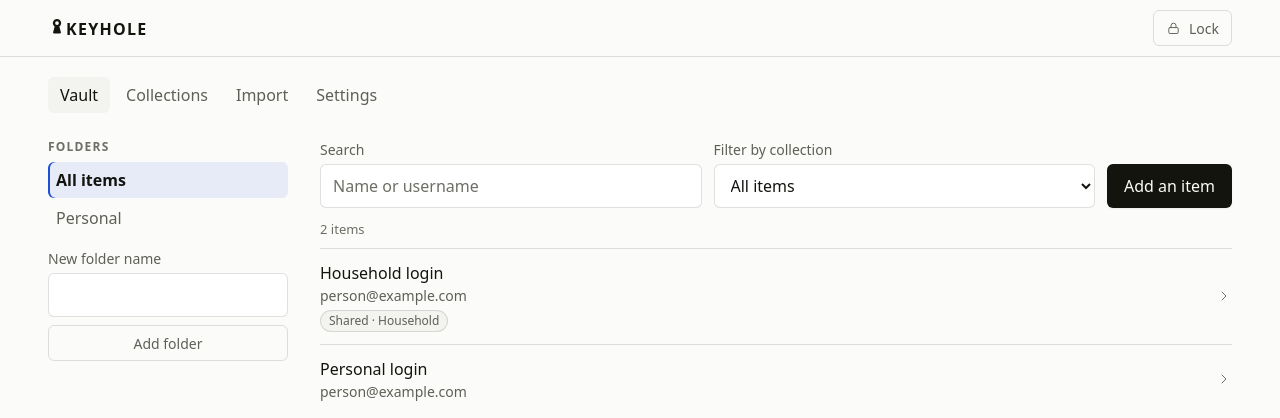
Scenario: VaultScreen collections › filters the list to one collection when that collection is selected
Check: the text "Household login" is shown, box [320, 262, 444, 284]
Check: the text "Personal login" is shown, box [320, 358, 428, 380]
Select "Household" in the dropdown labelled "Filter by collection": (904, 186) [714, 164, 1095, 208]
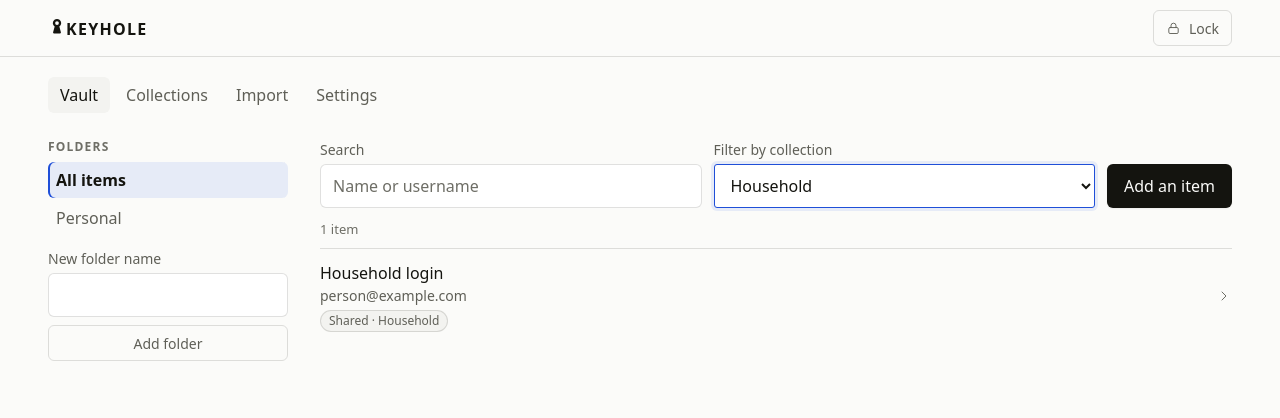
Check: the text "Household login" is shown, box [320, 262, 444, 284]
Check: the button "Personal login" is gone
